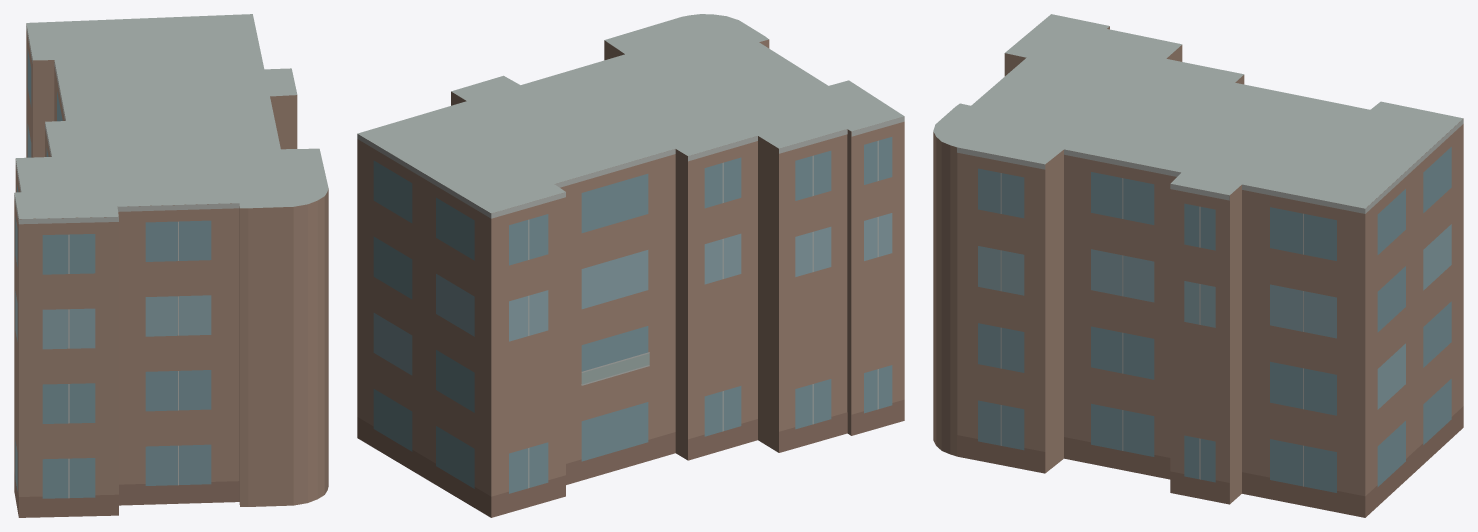
The model's file is survey-upis-32471239.glb.
The picture shows the model from 3 angles, left to right: view 1: azimuth 30°, elevation 25°; view 2: azimuth 150°, elevation 25°; view 3: azimuth 270°, elevation 25°; orthographic projection. The views are drawn at different scales.
Parts seen in each view (by area): view 1: survey-upis-32471239.tmp; view 2: survey-upis-32471239.tmp; view 3: survey-upis-32471239.tmp.
Part boxes in pixels (<box>): survey-upis-32471239.tmp: <box>14,14,328,517</box>; survey-upis-32471239.tmp: <box>357,14,904,517</box>; survey-upis-32471239.tmp: <box>933,14,1463,517</box>.
Size of the model in its own units: 19.19 by 14.2 by 22.08.
